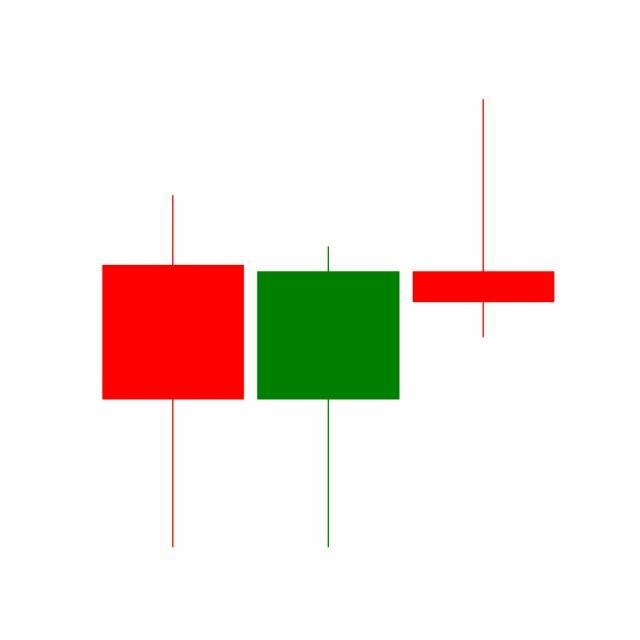Gravestone Doji: (406, 97, 562, 341)
